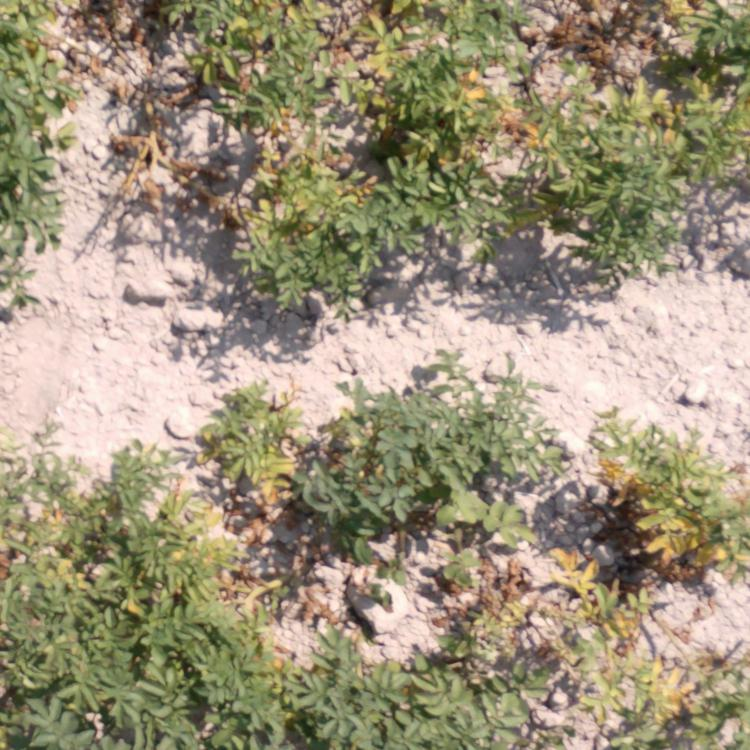healthy: (1, 620, 228, 749), (1, 1, 85, 305), (427, 356, 548, 532), (310, 385, 424, 549), (379, 149, 537, 264), (548, 156, 698, 275), (329, 663, 520, 745)
stressed: (550, 3, 750, 146), (356, 1, 539, 147), (596, 420, 744, 594), (1, 441, 147, 615), (223, 157, 379, 319), (604, 598, 741, 750), (448, 533, 601, 658), (212, 2, 348, 140), (107, 66, 216, 197), (246, 572, 308, 745), (153, 494, 238, 617), (207, 392, 305, 491)
